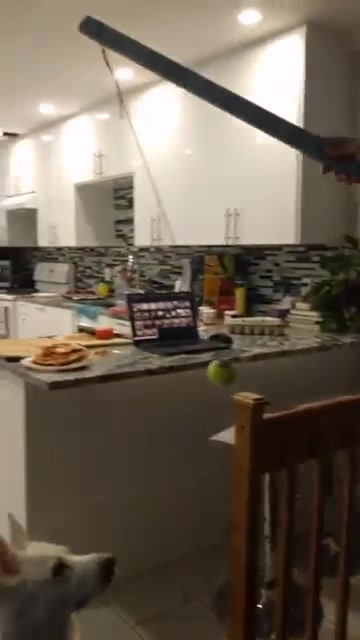tennis_ball: (203, 358, 238, 389)
